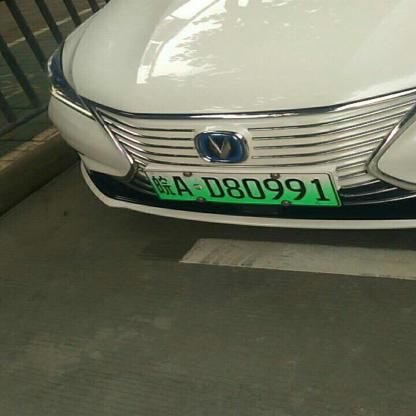lp: (145, 172, 340, 204)
